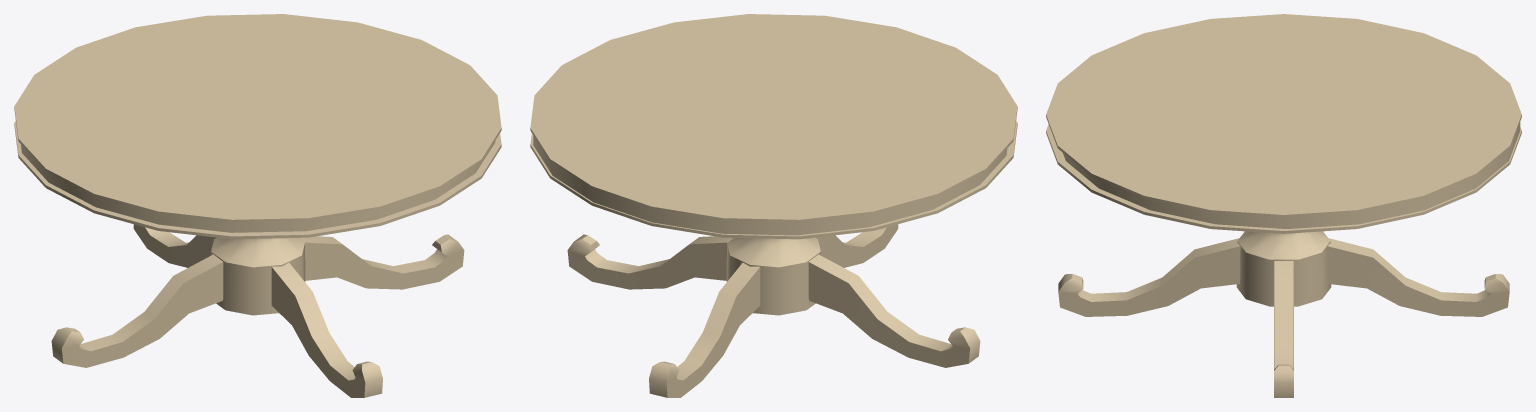
Rendered from pk_cocktail_burl.glb.
3 renders of one model, left to right at view 1: azimuth 30°, elevation 25°; view 2: azimuth 150°, elevation 25°; view 3: azimuth 270°, elevation 25°, orthographic. The views are drawn at different scales.
Parts seen in each view (by area): view 1: pk_cocktail_burl; view 2: pk_cocktail_burl; view 3: pk_cocktail_burl.
Part boxes in pixels (left/top/right/bottom): pk_cocktail_burl: left=14, top=14, right=501, bottom=397; pk_cocktail_burl: left=530, top=14, right=1017, bottom=397; pk_cocktail_burl: left=1046, top=14, right=1521, bottom=397.
Size of the model in its own units: 1 by 0.46 by 1.
1 material, 1 textured.
